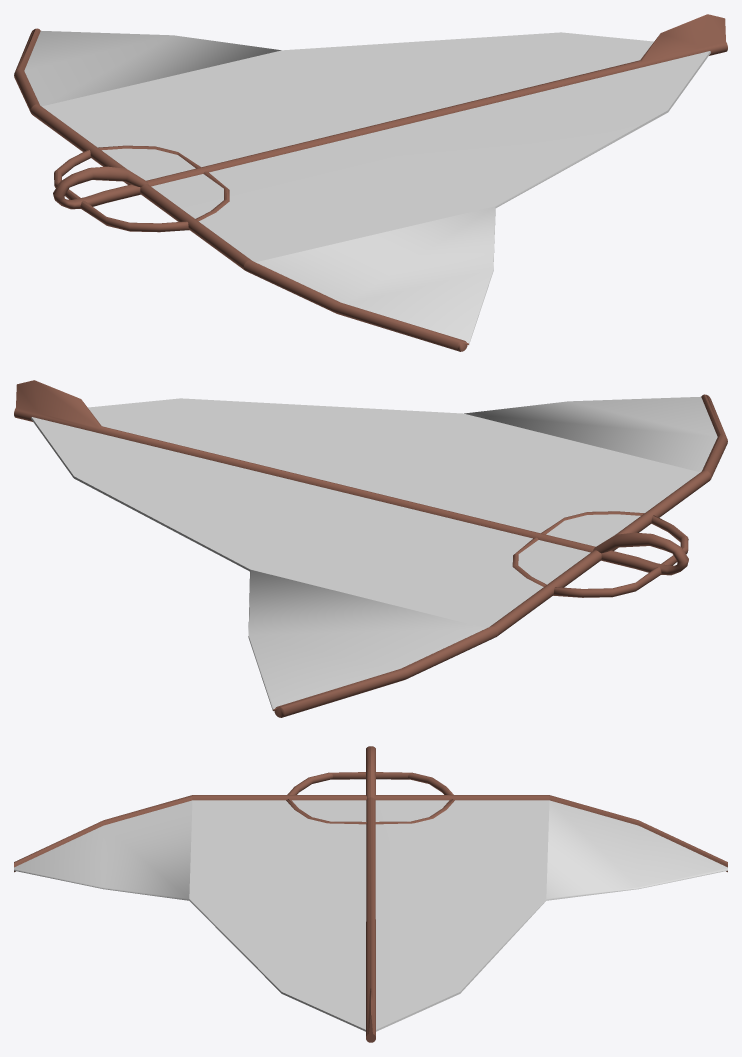
Rendered from Glider.fbx.
3 views of the same model, one above another, from view 1: azimuth 30°, elevation 25°; view 2: azimuth 150°, elevation 25°; view 3: azimuth 270°, elevation 25° (orthographic). The views are drawn at different scales.
Parts seen in each view (by area): view 1: Cylinder; view 2: Cylinder; view 3: Cylinder.
Boxes of the visible parts, box(x1,y1,x2,y2) form: Cylinder: box(14, 14, 727, 351); Cylinder: box(14, 380, 727, 717); Cylinder: box(14, 746, 727, 1042).
Bounding box in the file's own units: 1259 × 125 × 1385.
